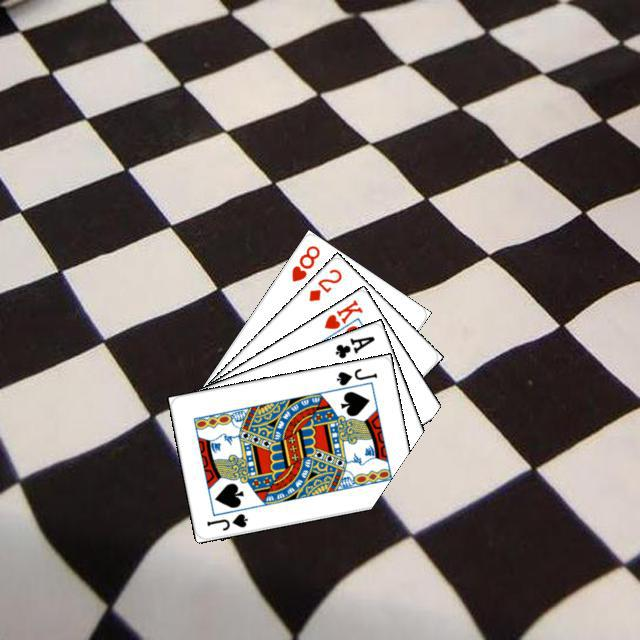2d: (303, 264, 344, 303)
8h: (286, 240, 322, 284)
Ac: (330, 331, 377, 360)
Js: (332, 363, 379, 387), (202, 508, 249, 532)
Kh: (319, 295, 365, 341)
